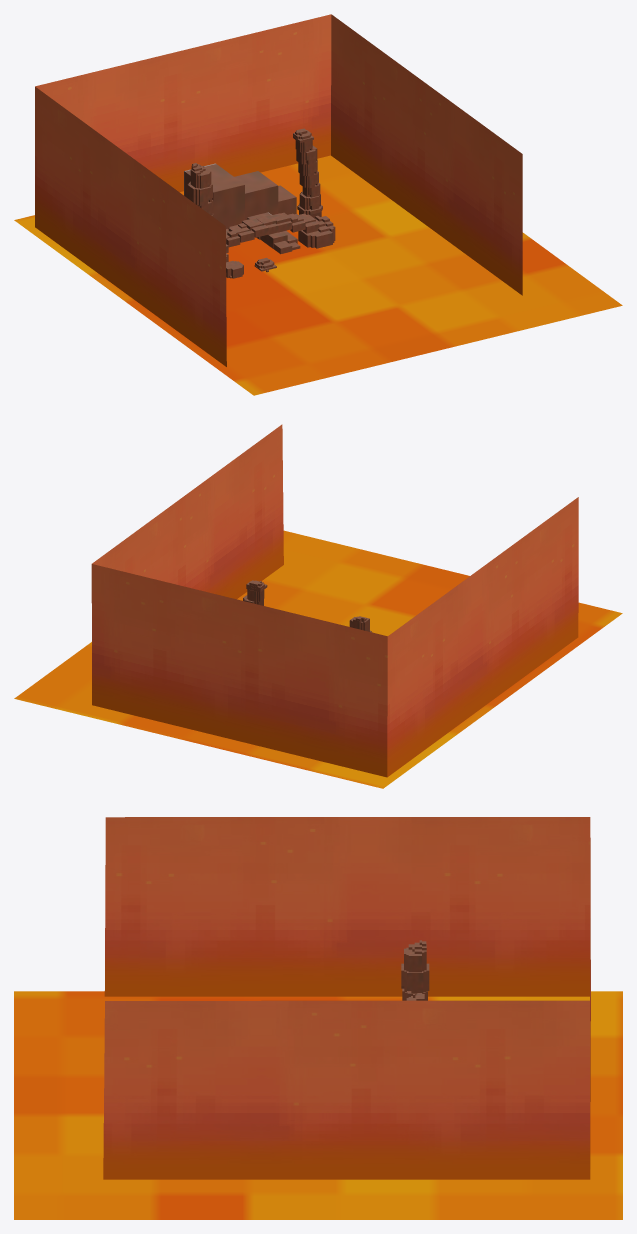
The model's file is lavamap.fbx.
3 views of the same model, one above another, from view 1: azimuth 30°, elevation 25°; view 2: azimuth 150°, elevation 25°; view 3: azimuth 270°, elevation 25° (orthographic). The views are drawn at different scales.
Parts seen in each view (by area): view 1: polySurface4, polySurface6, pasted__pCube32, polySurface343, pasted__pasted__pasted__polySurface207, pasted__pasted__pasted__polySurface208, pasted__pasted__pasted__polySurface211, pasted__pCube33; view 2: polySurface4, polySurface6; view 3: polySurface4, polySurface6, pasted__pasted__pasted__polySurface208.
Boxes of the visible parts, x1,y1,x2,y2 form: polySurface4: (35, 14, 522, 366); polySurface6: (14, 155, 622, 395); pasted__pCube32: (184, 163, 296, 228); polySurface343: (226, 212, 319, 253); pasted__pasted__pasted__polySurface207: (293, 128, 322, 218); pasted__pasted__pasted__polySurface208: (187, 163, 213, 217); pasted__pasted__pasted__polySurface211: (298, 215, 335, 248); pasted__pCube33: (247, 212, 300, 254); polySurface4: (91, 424, 578, 777); polySurface6: (14, 530, 622, 788); polySurface4: (103, 817, 590, 1179); polySurface6: (14, 991, 622, 1219); pasted__pasted__pasted__polySurface208: (401, 940, 429, 1000).
Size of the model in its own units: 6218 by 2524 by 6998.
